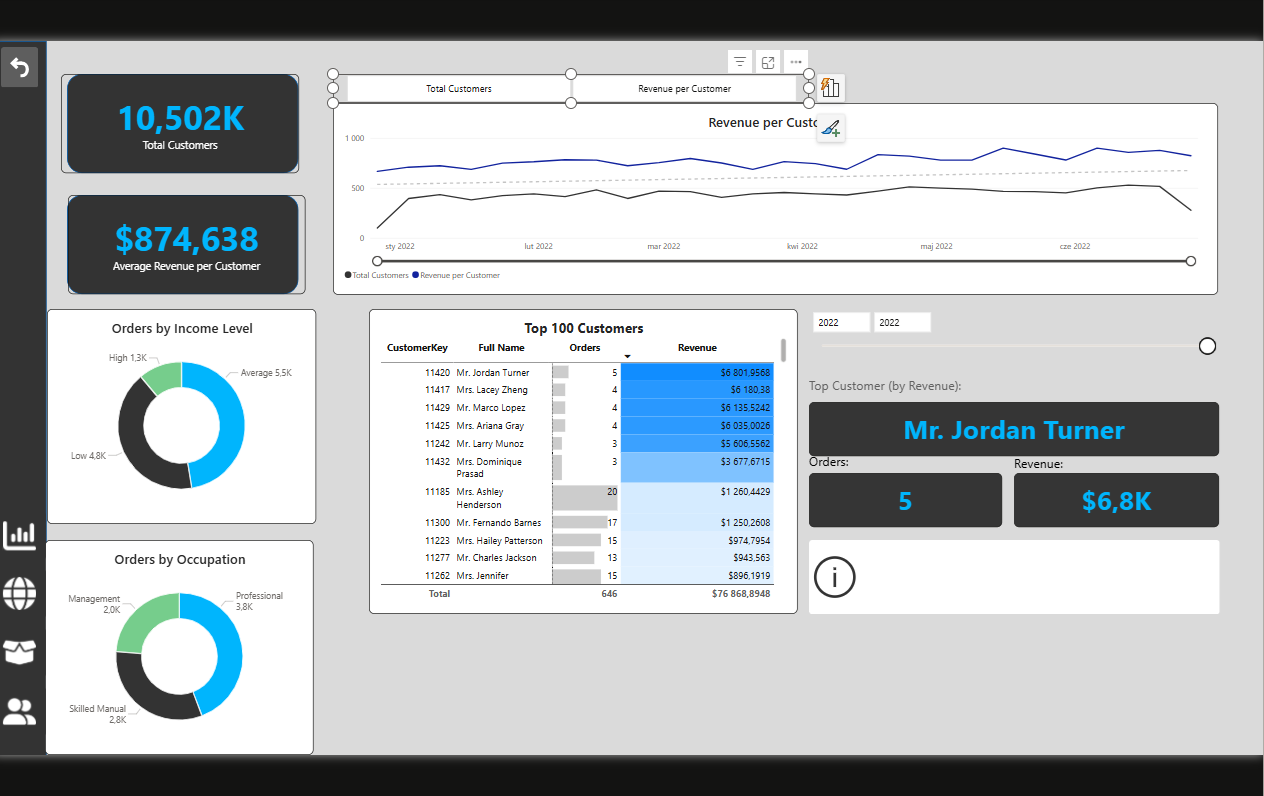

The page's visual inventory and layout, read from the dashboard file:
{"tool":"powerbi","page":{"name":"Customer Detail","canvas":[1920,1080],"ordinal":3},"visuals":[{"type":"shape","box":[0,0,81,1081],"z":0},{"type":"group","id":"g1","title":"Group 1","box":[102.4,50,359.5,150],"z":1000},{"type":"group","id":"g2","title":"Group 2","box":[111.9,233.3,359.5,150],"z":2000},{"type":"lineChart","fields":{"Category":["Calendar Lookup.Date Hierarchy.Start of Year","Calendar Lookup.Date Hierarchy.Start of Month","Calendar Lookup.Date Hierarchy.Start of Week","Calendar Lookup.Date Hierarchy.Date"],"Y":["Measure Table.Total Customers","Measure Table.Average Revenue per Customer"]},"box":[514,94,1338,290],"z":3000},{"type":"donutChart","title":"Orders by Income Level","fields":{"Category":["Customer Lookup.Income Level"],"Y":["Measure Table.Total Orders"]},"box":[81.8,404.5,406.8,325],"z":4000},{"type":"shape","box":[111.9,50,350,150],"z":5000,"group":"g1"},{"type":"donutChart","title":"Orders by Occupation","fields":{"Category":["Customer Lookup.Occupation"],"Y":["Measure Table.Total Orders"]},"box":[79.2,754.2,406.2,325],"z":5000},{"type":"shape","box":[111.9,233.3,350,150],"z":6000,"group":"g2"},{"type":"tableEx","title":"Top 100 Customers","fields":{"Values":["Customer Lookup.CustomerKey","Customer Lookup.Custumer Full Name (CC)","Measure Table.Total Orders","Measure Table.Total Revenue"]},"box":[568.2,404.5,647.7,461.4],"z":6000},{"type":"card","fields":{"Values":["Measure Table.Full Name (Customer Detail)"]},"box":[1233.3,545.2,619.6,82.4],"z":7000},{"type":"card","fields":{"Values":["Measure Table.Total Customers"]},"box":[102.4,50,360,150],"z":8000,"group":"g1"},{"type":"card","fields":{"Values":["Measure Table.Total Orders (Customers)"]},"box":[1233.3,652.7,292.2,82.4],"z":8000},{"type":"card","fields":{"Values":["Measure Table.Average Revenue per Customer"]},"box":[112.9,233.3,358.6,150],"z":9000,"group":"g2"},{"type":"card","fields":{"Values":["Measure Table.Total Revenue (Customers)"]},"box":[1543.1,652.7,309.8,82.4],"z":9000},{"type":"textbox","box":[1233.3,623.2,235.3,41.2],"z":10000},{"type":"textbox","box":[1233.3,507.6,235.3,41.2],"z":11000},{"type":"textbox","box":[1543.1,625.2,235.3,41.2],"z":12000},{"type":"slicer","fields":{"Values":["Calendar Lookup.Year"]},"box":[1231.8,404.5,620.5,140.9],"z":13000},{"type":"actionButton","box":[1233.3,754.4,621.1,112.3],"z":14000},{"type":"actionButton","box":[12.3,8.8,56.1,61.4],"z":15000},{"type":"actionButton","box":[0,712,80,72],"z":16000},{"type":"actionButton","box":[0,887.3,80,74],"z":17000},{"type":"actionButton","box":[0,798.7,80,74],"z":18000},{"type":"actionButton","box":[0,976,80,74],"z":19000},{"type":"slicer","fields":{"Values":["Customer Metrics Selecttion.Customer Metrics Selecttion"]},"box":[514,50,720,44],"z":20000}]}

Visuals, with their boxes on the page's 1920x1080 design canvas (x1, y1, x2, y2). These are canvas units, not pixel positions in the 1264x796 screenshot, which may show the page scaled, cropped or inside an application window:
shape: (0, 0, 81, 1081)
"Group 1" group: (102, 50, 462, 200)
"Group 2" group: (112, 233, 471, 383)
lineChart - Calendar Lookup.Date Hierarchy.Start of Year x Calendar Lookup.Date Hierarchy.Start of Month: (514, 94, 1852, 384)
"Orders by Income Level" donutChart: (82, 404, 489, 730)
shape: (112, 50, 462, 200)
"Orders by Occupation" donutChart: (79, 754, 485, 1079)
shape: (112, 233, 462, 383)
"Top 100 Customers" tableEx: (568, 404, 1216, 866)
card - Measure Table.Full Name (Customer Detail): (1233, 545, 1853, 628)
card - Measure Table.Total Customers: (102, 50, 462, 200)
card - Measure Table.Total Orders (Customers): (1233, 653, 1526, 735)
card - Measure Table.Average Revenue per Customer: (113, 233, 472, 383)
card - Measure Table.Total Revenue (Customers): (1543, 653, 1853, 735)
textbox: (1233, 623, 1469, 664)
textbox: (1233, 508, 1469, 549)
textbox: (1543, 625, 1778, 666)
slicer - Calendar Lookup.Year: (1232, 404, 1852, 545)
actionButton: (1233, 754, 1854, 867)
actionButton: (12, 9, 68, 70)
actionButton: (0, 712, 80, 784)
actionButton: (0, 887, 80, 961)
actionButton: (0, 799, 80, 873)
actionButton: (0, 976, 80, 1050)
slicer - Customer Metrics Selecttion.Customer Metrics Selecttion: (514, 50, 1234, 94)
